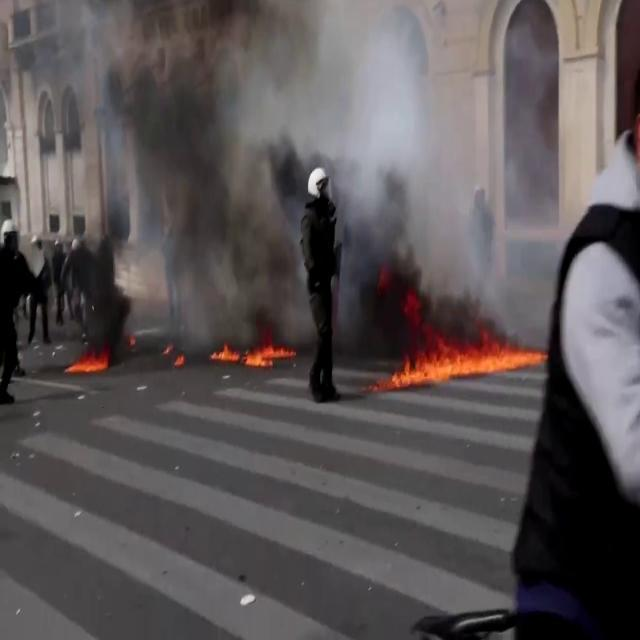Fire: (388, 327, 536, 392), (206, 346, 296, 379), (64, 340, 114, 382)
Smoke: (100, 1, 532, 362)
